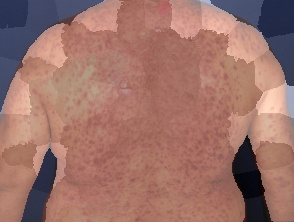SJS-TEN: (52, 0, 249, 222)
